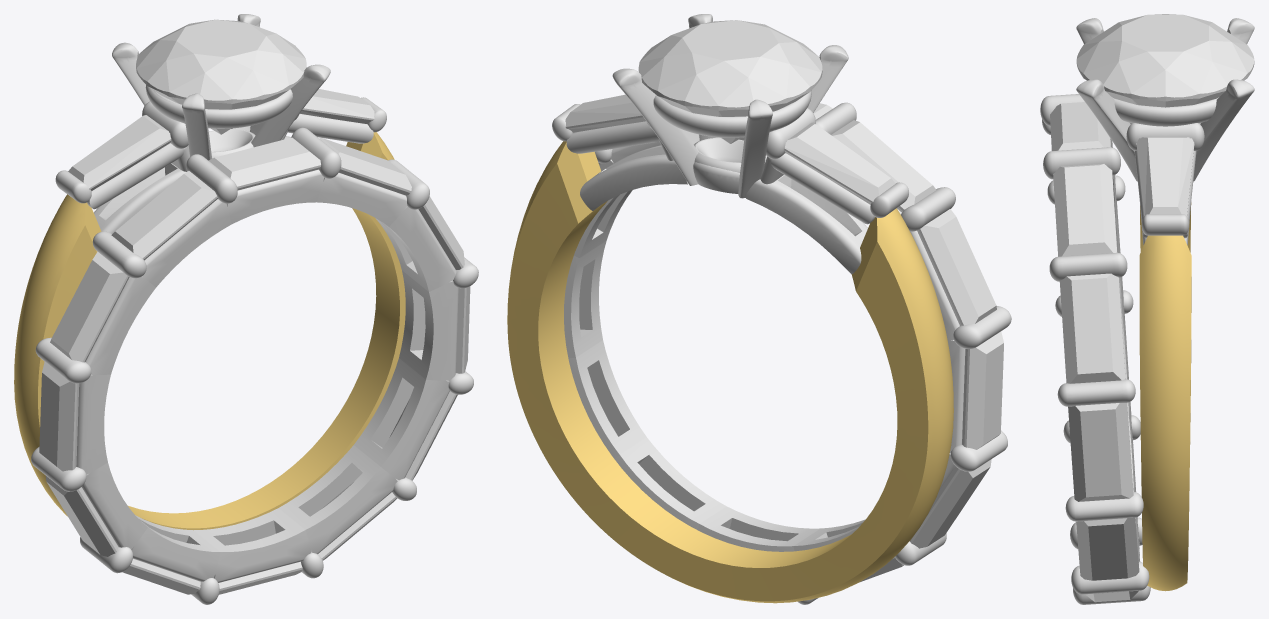
Rendered from AbbyEternityPTboth_blender.glb.
3 views of the same model, side by side, from view 1: azimuth 30°, elevation 25°; view 2: azimuth 150°, elevation 25°; view 3: azimuth 270°, elevation 25° (orthographic). The views are drawn at different scales.
Parts seen in each view (by area): view 1: Abby YG both for 3d model, Abby round dia both for 3d model, Abby PT both for 3d model.014, Abby PT both for 3d model.012, Abby PT both for 3d model.010, Abby PT both for 3d model.016, Abby baguette dia both for 3d model.003, Abby baguette dia both for 3d model.002, Abby baguette dia both for 3d model.004, Abby PT both for 3d model.008, Abby baguette dia both for 3d model, Abby PT both for 3d model.018 (+33 smaller); view 2: Abby YG both for 3d model, Abby round dia both for 3d model, Abby PT both for 3d model.040, Abby baguette dia both for 3d model.003, Abby PT both for 3d model.014, Abby PT both for 3d model.012, Abby baguette dia both for 3d model.004, Abby baguette dia both for 3d model, Abby PT both for 3d model.016, Abby PT both for 3d model.024, Abby PT both for 3d model.010, Abby baguette dia both for 3d model.002 (+21 smaller); view 3: Abby YG both for 3d model, Abby round dia both for 3d model, Abby baguette dia both for 3d model.011, Abby baguette dia both for 3d model.010, Abby baguette dia both for 3d model.012, Abby baguette dia both for 3d model.001, Abby baguette dia both for 3d model.009, Abby baguette dia both for 3d model.013, Abby PT both for 3d model.025, Abby PT both for 3d model.028, Abby PT both for 3d model.027, Abby PT both for 3d model.017 (+16 smaller).
Boxes of the visible parts, box(x1,y1,x2,y2) form: Abby YG both for 3d model: box(14, 132, 405, 530); Abby round dia both for 3d model: box(136, 19, 306, 134); Abby PT both for 3d model.014: box(354, 358, 449, 480); Abby PT both for 3d model.012: box(279, 445, 397, 553); Abby PT both for 3d model.010: box(193, 508, 311, 582); Abby PT both for 3d model.016: box(399, 270, 458, 380); Abby baguette dia both for 3d model.003: box(50, 251, 129, 362); Abby baguette dia both for 3d model.002: box(111, 171, 217, 260); Abby baguette dia both for 3d model.004: box(39, 362, 79, 471); Abby PT both for 3d model.008: box(131, 515, 220, 581); Abby baguette dia both for 3d model: box(68, 115, 171, 190); Abby PT both for 3d model.018: box(375, 206, 456, 291); Abby YG both for 3d model: box(507, 141, 953, 603); Abby round dia both for 3d model: box(638, 20, 822, 143); Abby PT both for 3d model.040: box(746, 175, 867, 274); Abby baguette dia both for 3d model.003: box(917, 209, 996, 325); Abby PT both for 3d model.014: box(568, 340, 646, 458); Abby PT both for 3d model.012: box(614, 437, 726, 529); Abby baguette dia both for 3d model.004: box(962, 331, 1003, 449); Abby baguette dia both for 3d model: box(784, 122, 895, 204); Abby PT both for 3d model.016: box(564, 241, 606, 358); Abby PT both for 3d model.024: box(580, 145, 688, 210); Abby PT both for 3d model.010: box(697, 506, 820, 551); Abby baguette dia both for 3d model.002: box(831, 120, 935, 212); Abby YG both for 3d model: box(1139, 202, 1191, 591); Abby round dia both for 3d model: box(1076, 14, 1254, 107); Abby baguette dia both for 3d model.011: box(1059, 273, 1125, 383); Abby baguette dia both for 3d model.010: box(1068, 403, 1133, 501); Abby baguette dia both for 3d model.012: box(1053, 163, 1117, 256); Abby baguette dia both for 3d model.001: box(1136, 137, 1194, 215); Abby baguette dia both for 3d model.009: box(1076, 517, 1139, 580); Abby baguette dia both for 3d model.013: box(1050, 102, 1110, 150); Abby PT both for 3d model.025: box(1113, 97, 1218, 126); Abby PT both for 3d model.028: box(1076, 79, 1137, 181); Abby PT both for 3d model.027: box(1193, 79, 1254, 181); Abby PT both for 3d model.017: box(1057, 379, 1135, 406).
Size of the model in its own units: 21.26 by 25.36 by 9.05.
